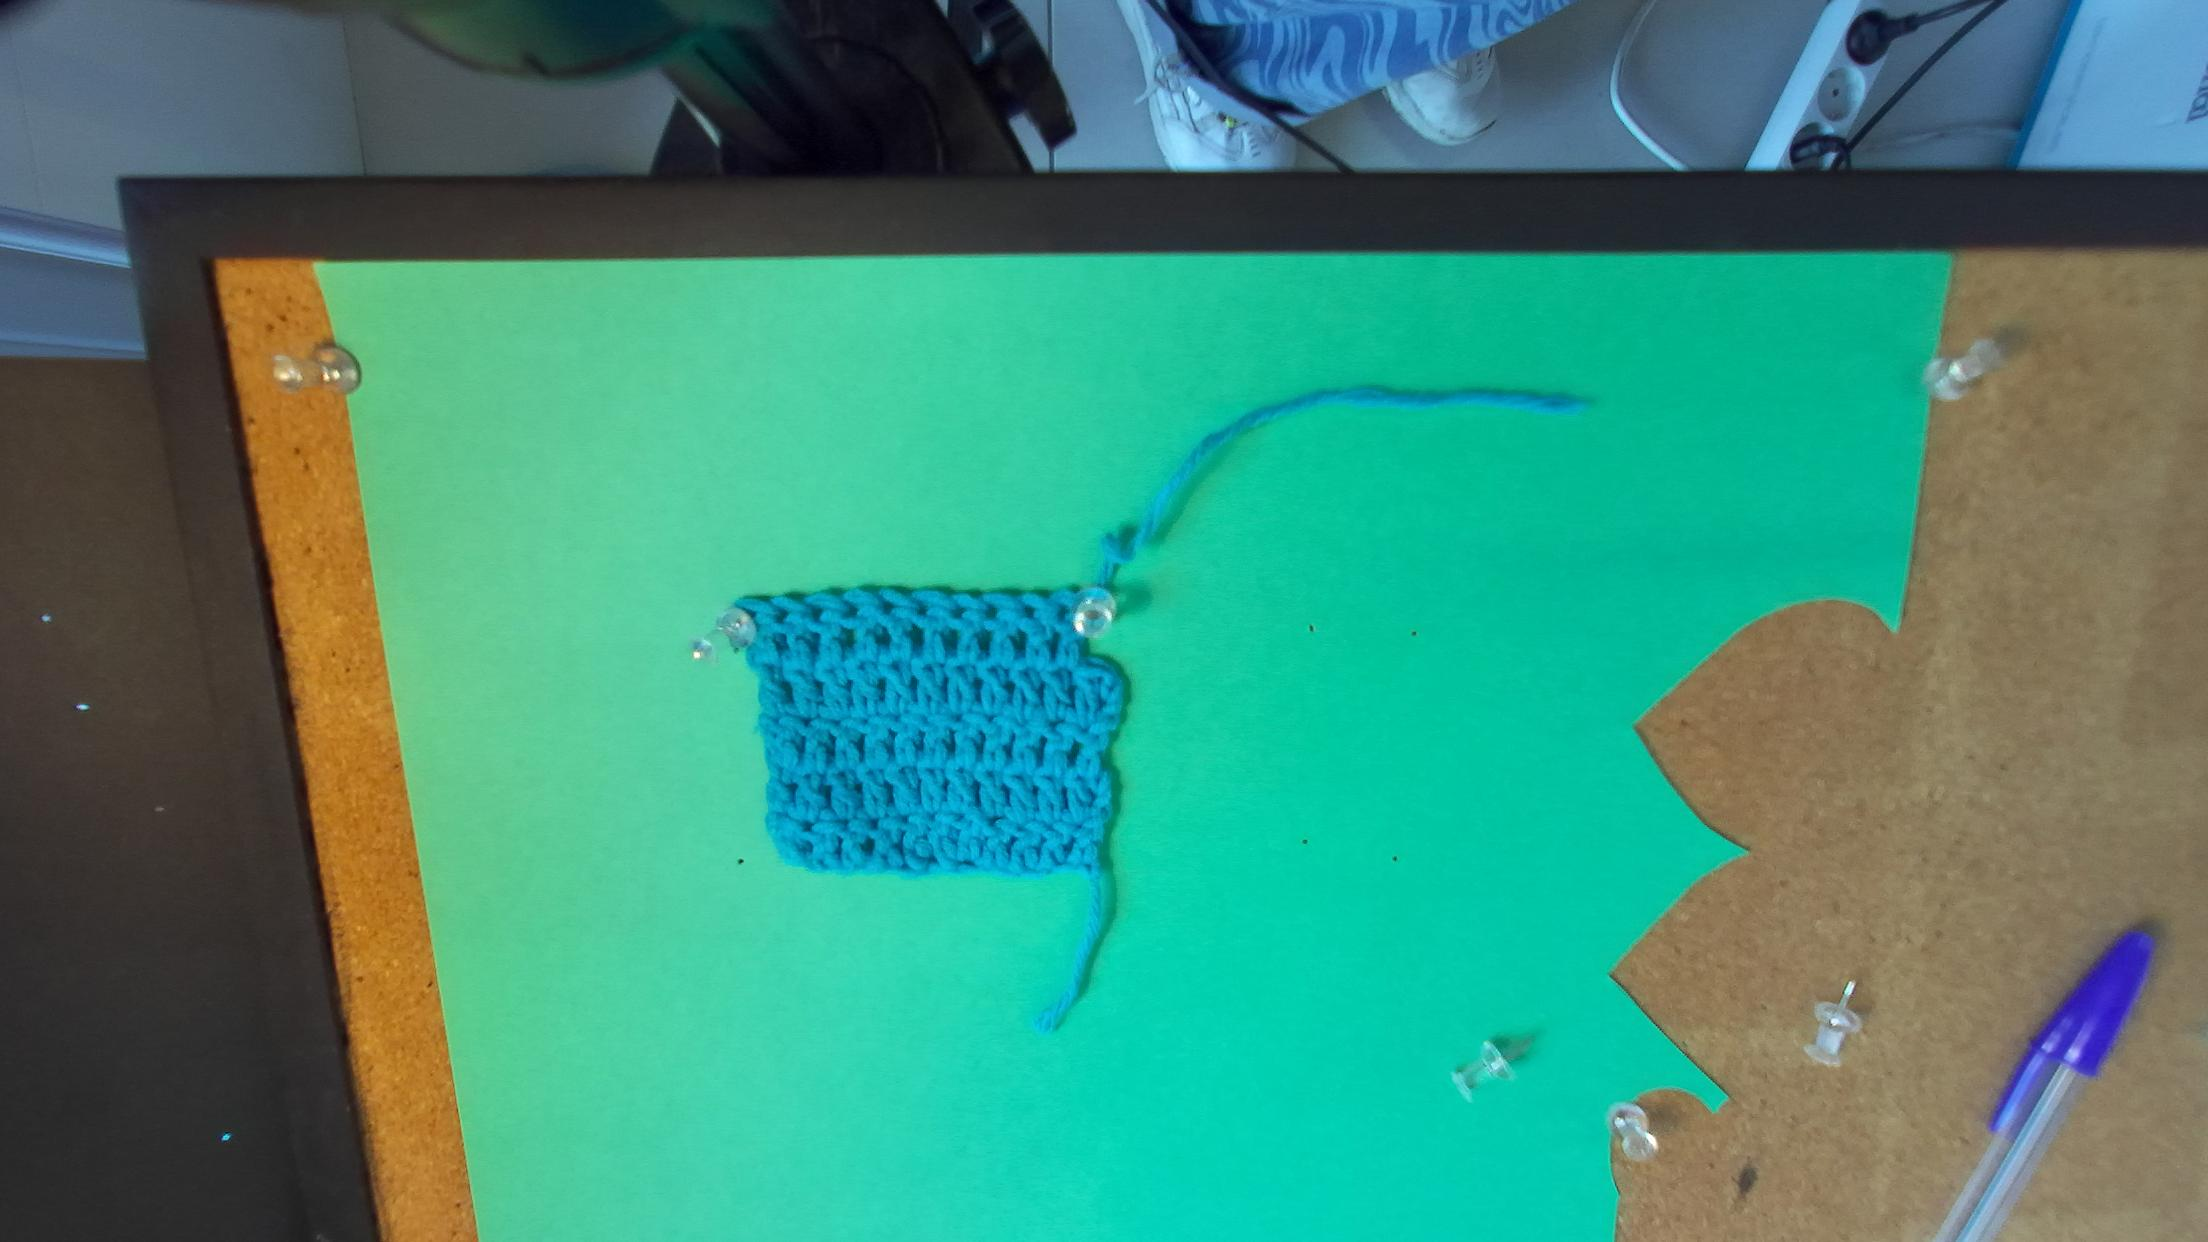hole: (843, 601, 861, 619), (772, 608, 792, 623), (808, 605, 825, 622), (981, 604, 999, 619), (1055, 602, 1069, 622), (951, 604, 968, 619), (1022, 604, 1037, 620), (880, 599, 895, 614), (916, 601, 930, 617), (742, 608, 757, 619)
swatch: (695, 585, 1130, 883)
